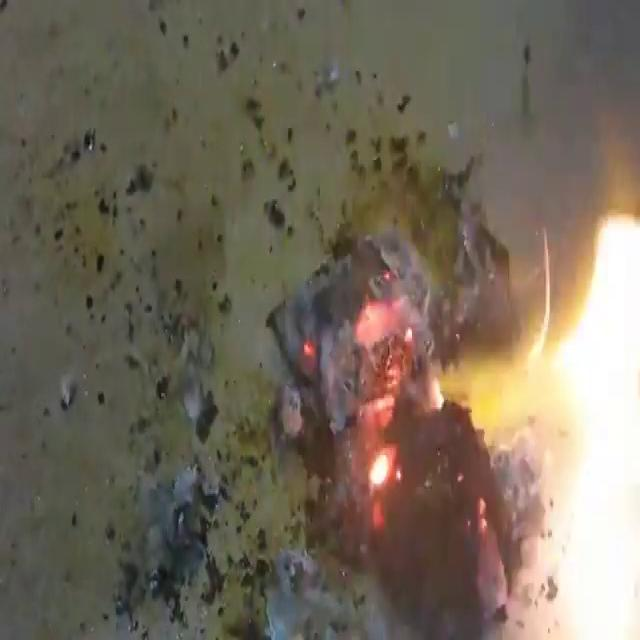Fire: (261, 137, 640, 638)
